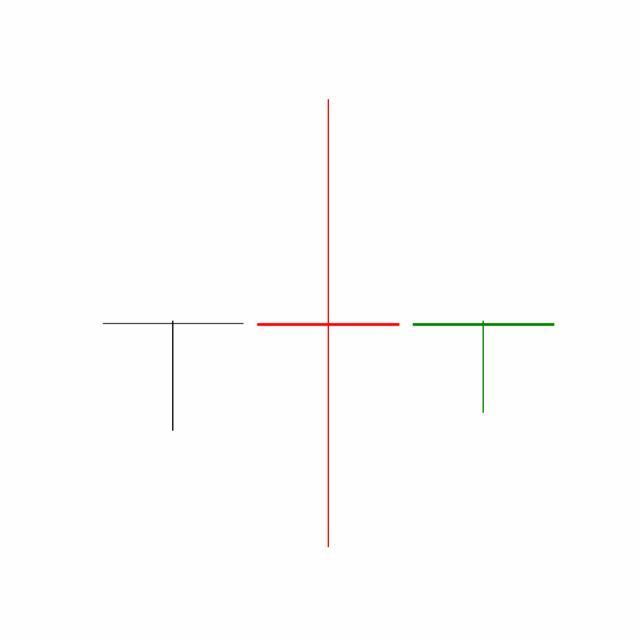Dragonfly Doji: (406, 320, 562, 415)
